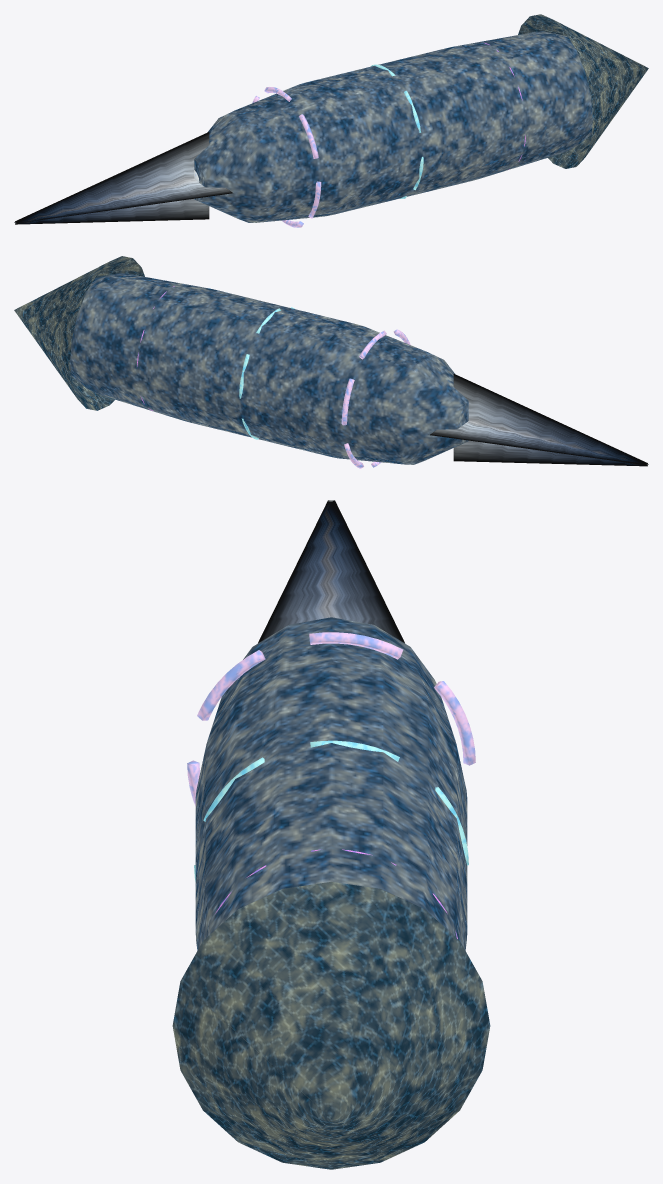
File: beam_charged.glb
3 renders of one model, top to bottom at view 1: azimuth 30°, elevation 25°; view 2: azimuth 150°, elevation 25°; view 3: azimuth 270°, elevation 25°, orthographic. The views are drawn at different scales.
Parts seen in each view (by area): view 1: beam_shell, beam_trail, beam_bowshock, beam_ring_0, beam_ring_1; view 2: beam_shell, beam_trail, beam_bowshock, beam_ring_0, beam_ring_1; view 3: beam_bowshock, beam_shell, beam_trail, beam_ring_0, beam_ring_1.
Boxes of the visible parts, left/top/right/bottom form: beam_shell: left=194, top=31, right=592, bottom=222; beam_trail: left=14, top=132, right=232, bottom=224; beam_bowshock: left=518, top=14, right=648, bottom=168; beam_ring_0: left=252, top=87, right=321, bottom=227; beam_ring_1: left=371, top=64, right=423, bottom=198; beam_shell: left=70, top=273, right=468, bottom=464; beam_trail: left=430, top=374, right=648, bottom=466; beam_bowshock: left=14, top=256, right=144, bottom=410; beam_ring_0: left=341, top=329, right=410, bottom=468; beam_ring_1: left=239, top=307, right=294, bottom=439; beam_bowshock: left=172, top=882, right=490, bottom=1169; beam_shell: left=195, top=617, right=467, bottom=950; beam_trail: left=258, top=500, right=404, bottom=643; beam_ring_0: left=187, top=632, right=475, bottom=806; beam_ring_1: left=194, top=740, right=468, bottom=881.
Size of the model in its own units: 21.2 by 4.6 by 4.6.
8 materials, 8 textured.
